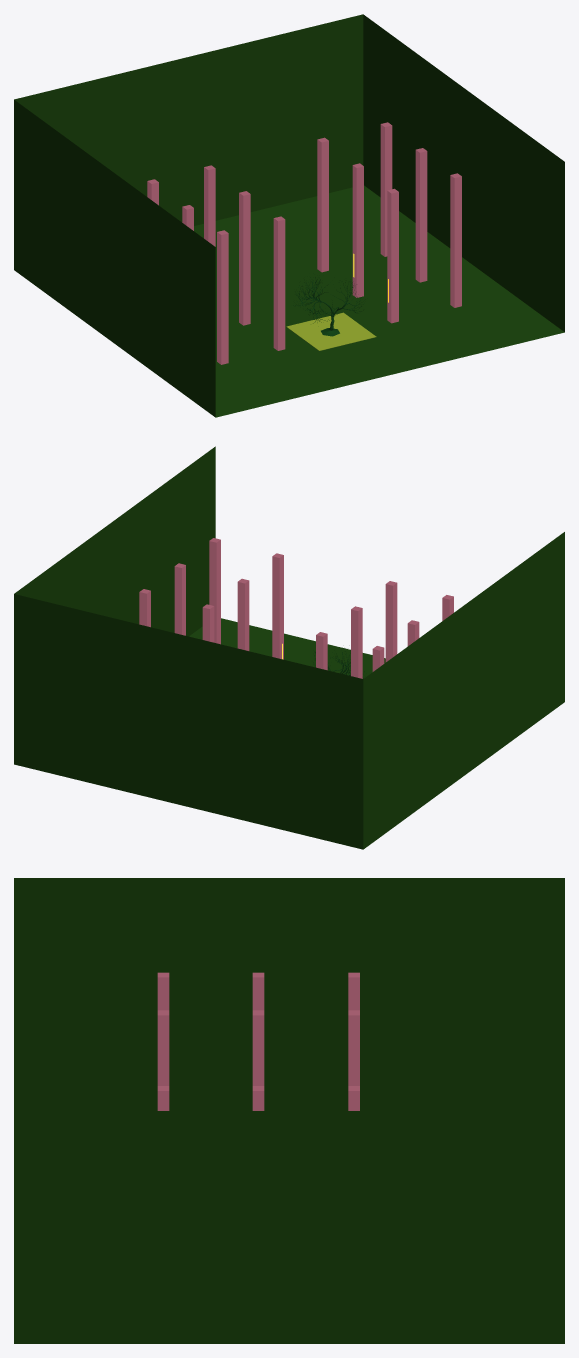
The model's file is portfolio.glb.
3 views of the same model, one above another, from view 1: azimuth 30°, elevation 25°; view 2: azimuth 150°, elevation 25°; view 3: azimuth 270°, elevation 25° (orthographic). The views are drawn at different scales.
Parts seen in each view (by area): view 1: floor, Pillars, Plinth, tree; view 2: floor, Pillars; view 3: floor, Pillars.
Boxes of the visible parts, x1=… form: floor: x1=14, y1=14, x2=564, y2=417; Pillars: x1=147, y1=122, x2=461, y2=364; Plinth: x1=286, y1=312, x2=376, y2=350; tree: x1=291, y1=273, x2=365, y2=336; floor: x1=14, y1=446, x2=564, y2=849; Pillars: x1=139, y1=538, x2=453, y2=678; floor: x1=14, y1=878, x2=564, y2=1343; Pillars: x1=157, y1=972, x2=359, y2=1110.
Size of the model in its own units: 159 by 74.43 by 159.
